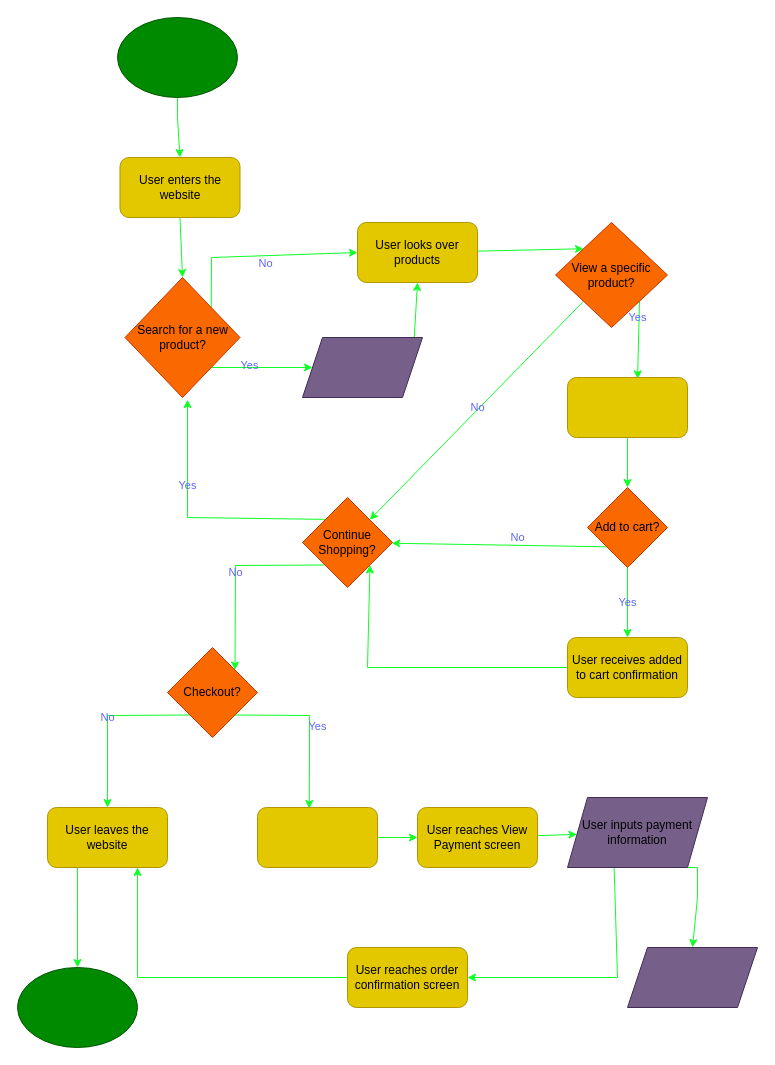
Some shapes in this 775 by 1065 pixel diagram are drawn without their labels. The shapes that lost their labels are listed below. From the top down, each one's centre as x and y in pixels, then its label:
pixel 177 57: Start
pixel 362 367: Read input of website search
pixel 627 407: Product's webpage is opened
pixel 317 837: User reaches View Cart screen
pixel 692 977: User receives an email
pixel 77 1007: End
